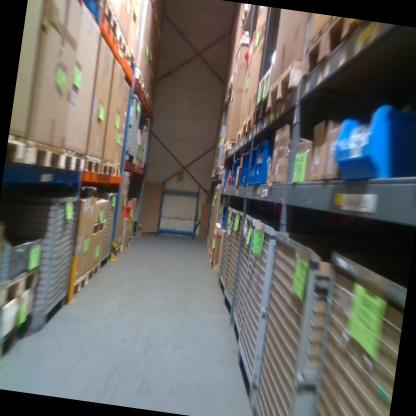pallet: (0, 257, 40, 325), (265, 53, 303, 122), (0, 310, 30, 376), (17, 141, 63, 184), (301, 43, 340, 81), (100, 0, 123, 41), (57, 152, 86, 177), (68, 270, 87, 307), (252, 91, 270, 130), (240, 108, 257, 141), (114, 28, 129, 59), (83, 154, 103, 175), (86, 259, 100, 285), (91, 217, 106, 241), (132, 66, 146, 91), (80, 0, 104, 13), (110, 242, 123, 262), (222, 138, 236, 155), (110, 163, 122, 181), (100, 162, 112, 178), (235, 125, 244, 146), (121, 239, 129, 253)
small_load_carrier: (252, 137, 276, 187), (247, 142, 259, 186), (237, 152, 248, 186), (241, 150, 251, 186), (234, 156, 243, 186), (218, 203, 228, 230), (230, 156, 238, 188), (222, 163, 232, 186)
stillage: (304, 244, 411, 416), (249, 227, 335, 416), (0, 182, 84, 339), (226, 214, 280, 411), (226, 210, 257, 344), (88, 187, 121, 273), (220, 207, 246, 311), (213, 203, 237, 296), (121, 92, 147, 162), (134, 113, 155, 170)
